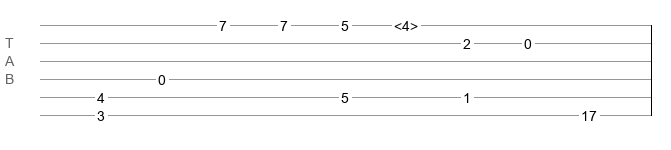0: (158, 72, 166, 82), (524, 36, 532, 46)
1: (463, 90, 471, 100)
17: (581, 108, 597, 118)
2: (463, 36, 471, 46)
3: (97, 108, 105, 118)
4: (97, 90, 105, 100)
5: (341, 18, 349, 28), (341, 90, 349, 100)
7: (219, 18, 227, 28), (280, 18, 288, 28)
harmonic: (394, 18, 418, 28)
